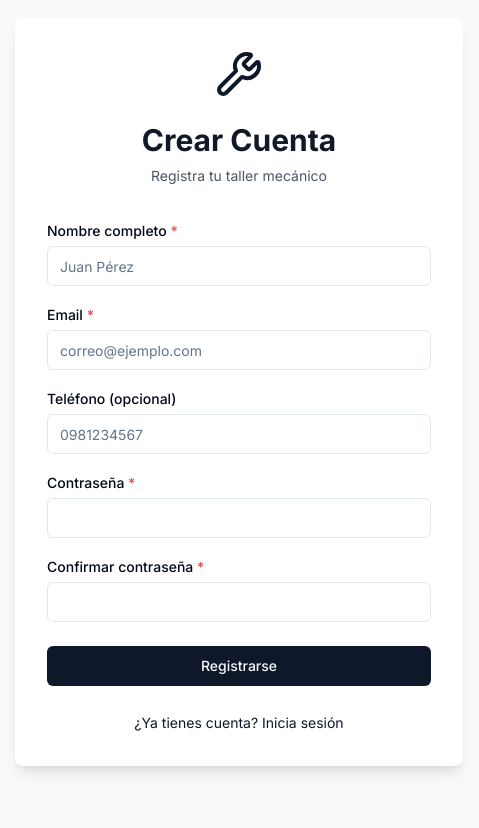
Register Page › Form Validation - Name Field › shows error for name with less than 2 characters
In the field labelled "Nombre completo *": {"x": 239, "y": 266} [47,246,431,286], type "A"
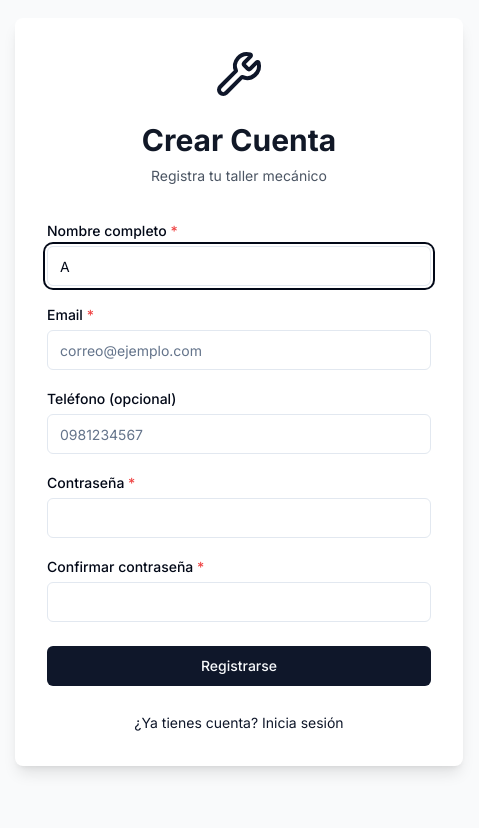
Click the button "Registrarse": {"x": 239, "y": 666} [47,646,431,686]
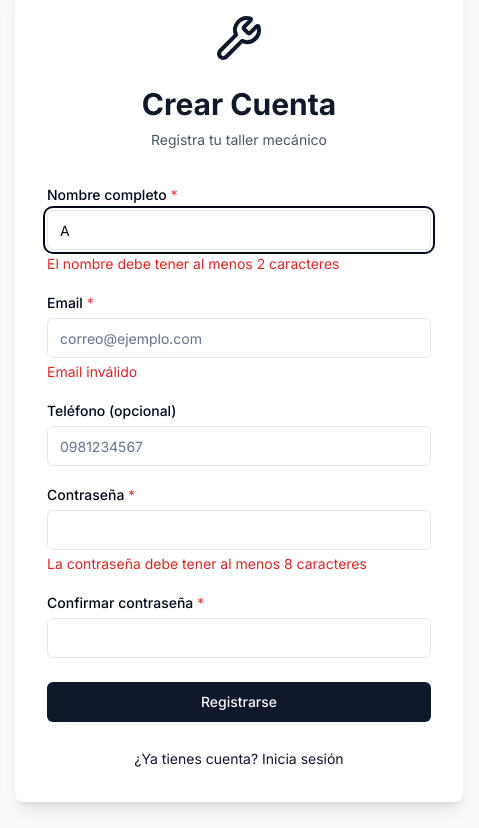
Result: the text "El nombre debe tener al menos 2 caracteres" is shown at [47,255,340,272]
